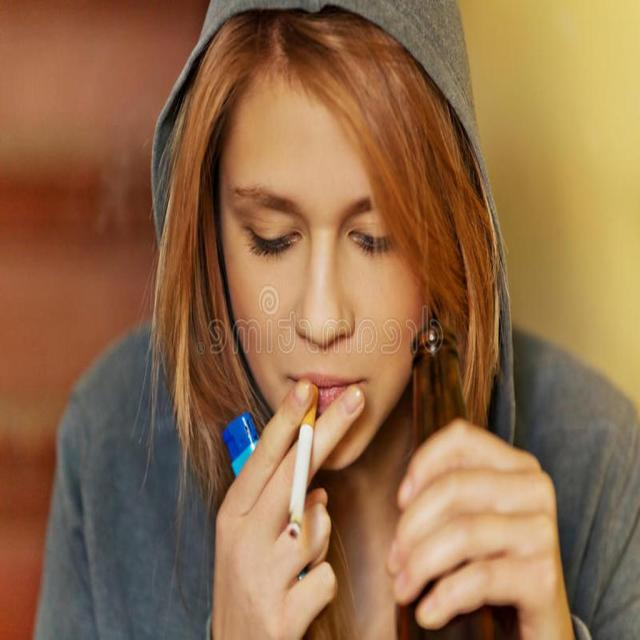smoking: (243, 27, 413, 550)
